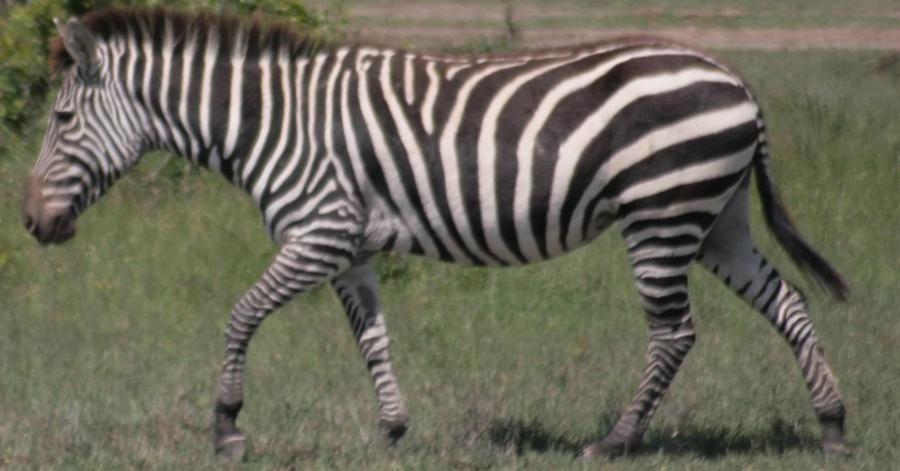zebra_plains: (264, 23, 751, 277)
